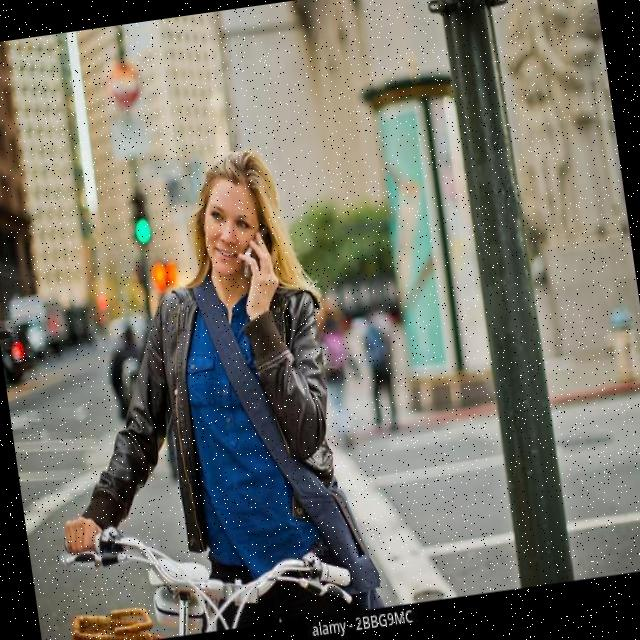No helmet: (176, 125, 335, 302)
Using mobile: (124, 138, 332, 402)
